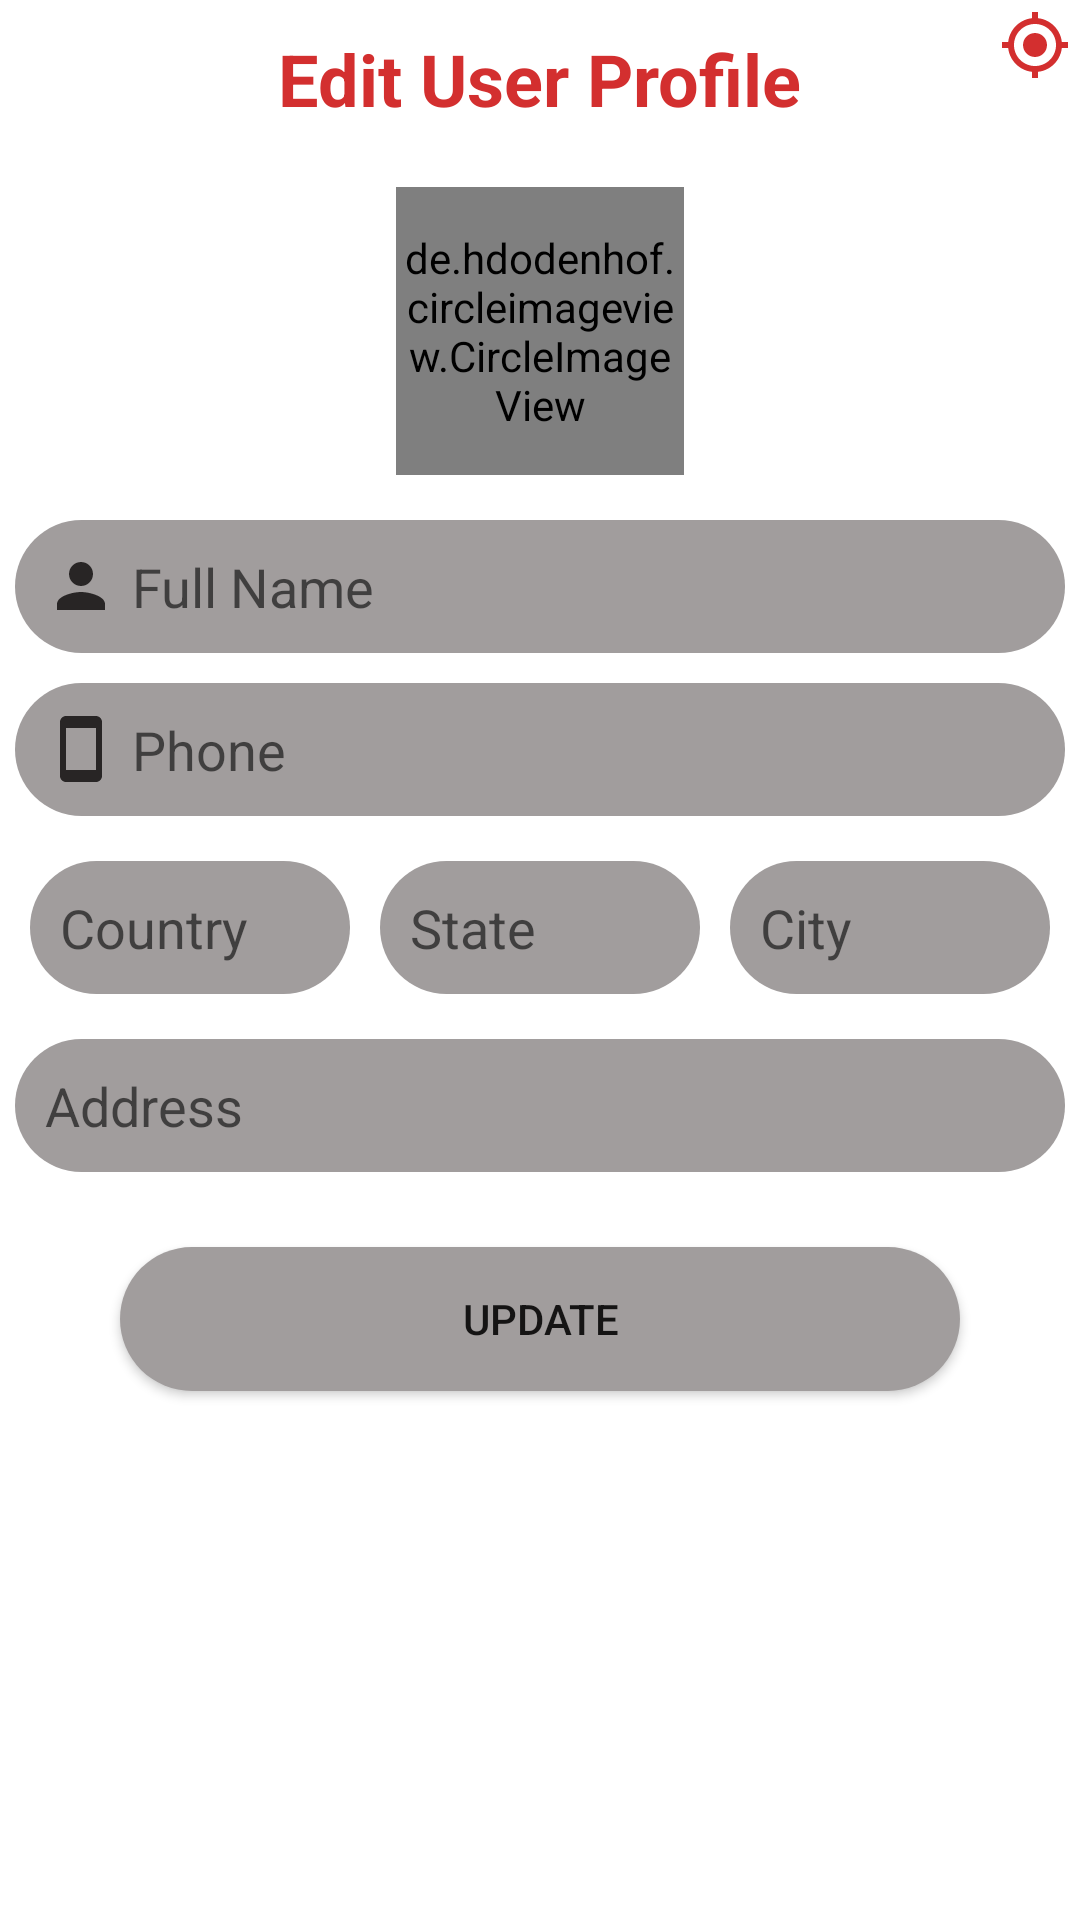

Screen size 1080x1920. Icon name, then its center in pixels as point (x, y):
gps fixed: point (1035, 45)
